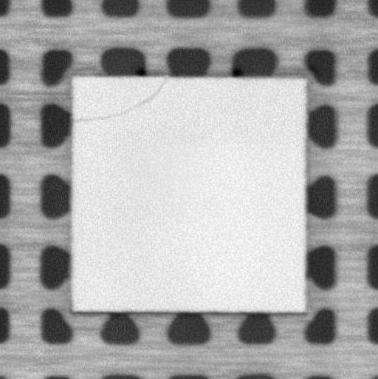DIE_CRACK: (74, 79, 173, 122)
